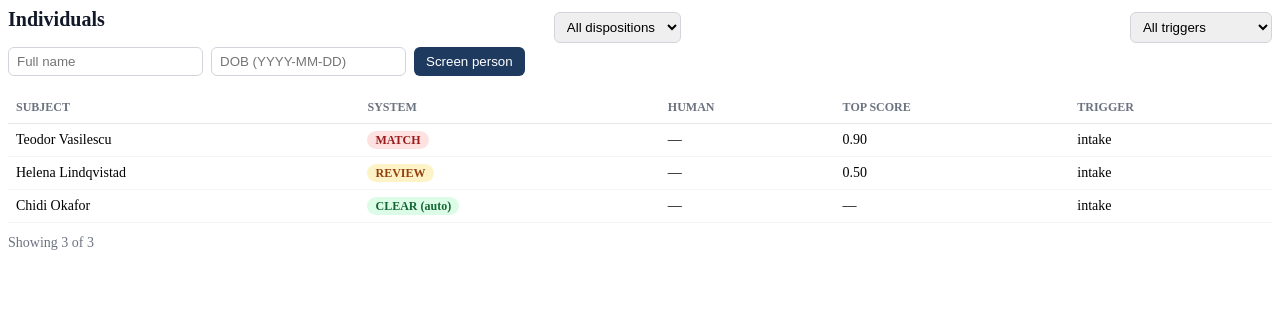
IndividualsQueue › stops polling and shows an error when a background screening can't be checked
expect the number of rows with test id "screening-row" is 3: met, box [8, 124, 1272, 156]; [8, 156, 1272, 190]; [8, 190, 1272, 222]
Type "Teodor Vasilescu" into the field labelled "Full name" at (106, 62), box [8, 47, 203, 76]
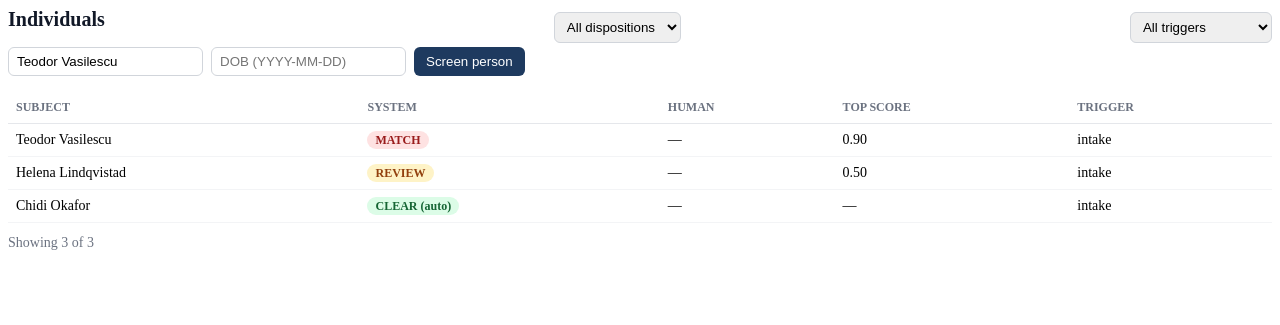
Submit the form with test id "screen-person-form", box [8, 47, 525, 76]
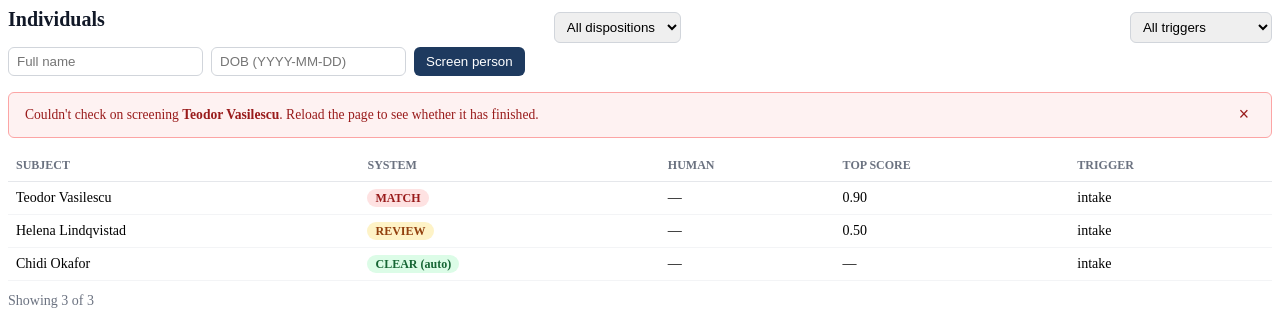
expect the message with test id "background-screening-notice" shows "Couldn't check": met, box [25, 107, 182, 122]
